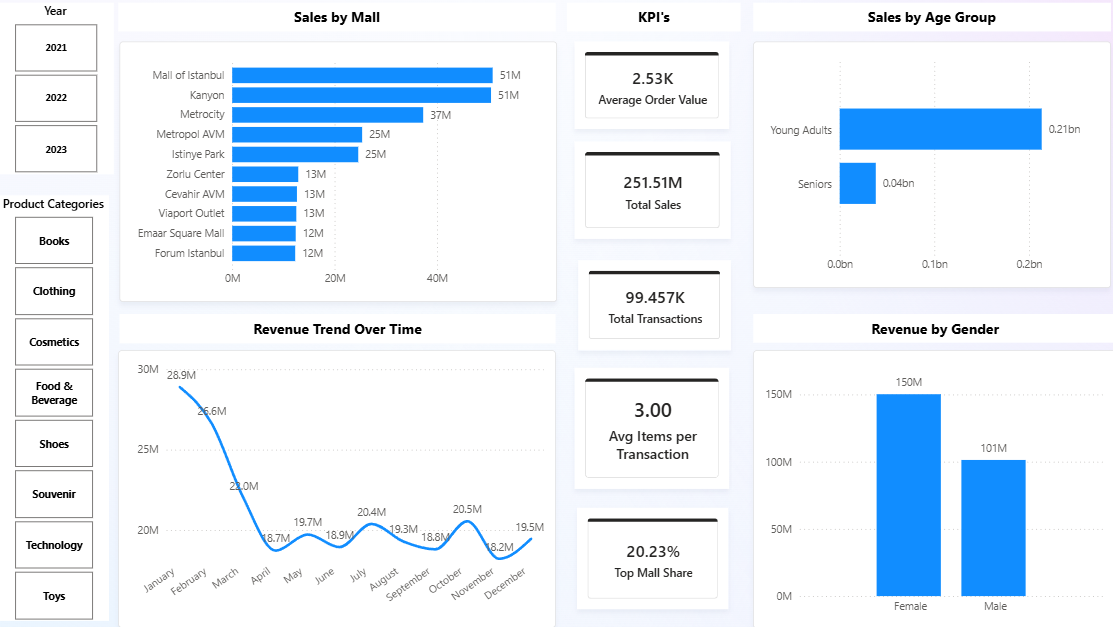

Layout of this report page (visuals, bound fields, positions):
{"tool":"powerbi","page":{"name":"Sales Analysis","canvas":[1280,720],"ordinal":1},"visuals":[{"type":"slicer","title":"Year","fields":{"Values":["customer_shopping_data.invoice_date.Variation.Date Hierarchy.Year"]},"box":[0,3.7,133.3,195.7],"z":0},{"type":"slicer","title":"Product Categories","fields":{"Values":["customer_shopping_data.category"]},"box":[0,223.8,128.4,486.7],"z":1000},{"type":"clusteredBarChart","fields":{"Category":["customer_shopping_data.shopping_mall"],"Y":["Sum(customer_shopping_data.Sales)"]},"box":[139.8,48.4,499.7,297.6],"z":2000},{"type":"cardVisual","title":"Payment in cash","fields":{"Data":["customer_shopping_data.Average Order value"]},"box":[660,48.6,177.1,100],"z":4000},{"type":"cardVisual","title":"Payment in cash","fields":{"Data":["customer_shopping_data.Top Mall Sales Share %"]},"box":[662.8,582.1,173.6,116.2],"z":6000},{"type":"cardVisual","title":"Payment in cash","fields":{"Data":["customer_shopping_data.Avg Items per Transaction"]},"box":[660,421.4,177.1,138.6],"z":7000},{"type":"cardVisual","title":"Payment in cash","fields":{"Data":["Sum(customer_shopping_data.Sales)"]},"box":[660,162.9,178.6,111.4],"z":8000},{"type":"cardVisual","title":"Payment in cash","fields":{"Data":["CountNonNull(customer_shopping_data.invoice_no)"]},"box":[664.3,298.6,174.3,102.9],"z":9000},{"type":"textbox","box":[138.2,3.7,500.1,33],"z":10000},{"type":"textbox","box":[864.5,3.7,408.4,33],"z":11000},{"type":"lineChart","fields":{"Category":["customer_shopping_data.invoice_date.Variation.Date Hierarchy.Month"],"Y":["Sum(customer_shopping_data.Sales)"]},"box":[138.4,401.4,499.7,318.3],"z":12000},{"type":"clusteredColumnChart","fields":{"Category":["customer_shopping_data.gender"],"Y":["Sum(customer_shopping_data.Sales)"]},"box":[864.5,401.1,415.8,319.2],"z":13000},{"type":"textbox","box":[139.8,359.9,498.3,33.2],"z":14000},{"type":"textbox","box":[864.5,359.5,415.8,33],"z":15000},{"type":"clusteredBarChart","fields":{"Y":["Sum(customer_shopping_data.Sales)"],"Category":["customer_shopping_data.Age Group"]},"box":[864.5,48.9,408.4,281.3],"z":15001},{"type":"textbox","box":[651.4,4.3,198.6,32.9],"z":15002}]}

Visuals, with their boxes in screenshot pixels (x1, y1, x2, y2), scaled from the page's 1280x720 canvas onto the 1113x627 screenshot:
"Year" slicer: pyautogui.locateOnScreen(0, 3, 116, 174)
"Product Categories" slicer: pyautogui.locateOnScreen(0, 195, 112, 619)
clusteredBarChart - customer_shopping_data.shopping_mall x Sum(customer_shopping_data.Sales): pyautogui.locateOnScreen(122, 42, 556, 301)
"Payment in cash" cardVisual: pyautogui.locateOnScreen(574, 42, 728, 129)
"Payment in cash" cardVisual: pyautogui.locateOnScreen(576, 507, 727, 608)
"Payment in cash" cardVisual: pyautogui.locateOnScreen(574, 367, 728, 488)
"Payment in cash" cardVisual: pyautogui.locateOnScreen(574, 142, 729, 239)
"Payment in cash" cardVisual: pyautogui.locateOnScreen(578, 260, 729, 350)
textbox: pyautogui.locateOnScreen(120, 3, 555, 32)
textbox: pyautogui.locateOnScreen(752, 3, 1107, 32)
lineChart - customer_shopping_data.invoice_date.Variation.Date Hierarchy.Month x Sum(customer_shopping_data.Sales): pyautogui.locateOnScreen(120, 350, 555, 626)
clusteredColumnChart - customer_shopping_data.gender x Sum(customer_shopping_data.Sales): pyautogui.locateOnScreen(752, 349, 1112, 626)
textbox: pyautogui.locateOnScreen(122, 313, 555, 342)
textbox: pyautogui.locateOnScreen(752, 313, 1112, 342)
clusteredBarChart - Sum(customer_shopping_data.Sales) x customer_shopping_data.Age Group: pyautogui.locateOnScreen(752, 43, 1107, 288)
textbox: pyautogui.locateOnScreen(566, 4, 739, 32)
